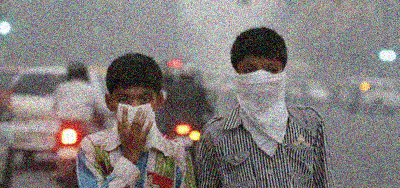with_mask: (237, 61, 285, 103), (112, 90, 158, 132)
